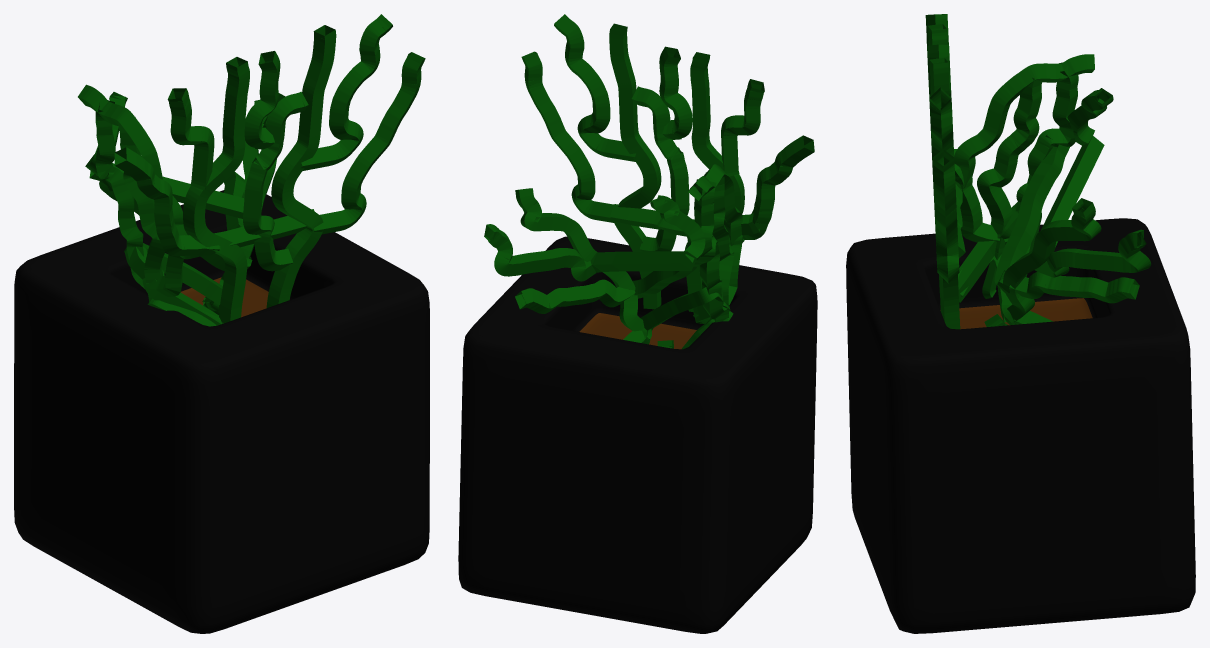
The model's file is FernPot.fbx.
The picture shows the model from 3 angles, left to right: view 1: azimuth 30°, elevation 25°; view 2: azimuth 150°, elevation 25°; view 3: azimuth 270°, elevation 25°; orthographic projection. The views are drawn at different scales.
Parts seen in each view (by area): view 1: FernPot_LOD0; view 2: FernPot_LOD0; view 3: FernPot_LOD0.
Part boxes in pixels (bbox=[...]): FernPot_LOD0: bbox=[14, 14, 429, 633]; FernPot_LOD0: bbox=[458, 14, 817, 633]; FernPot_LOD0: bbox=[846, 14, 1195, 633].
Size of what is drawn, in the model's own units: 65.98 by 109 by 63.39.
